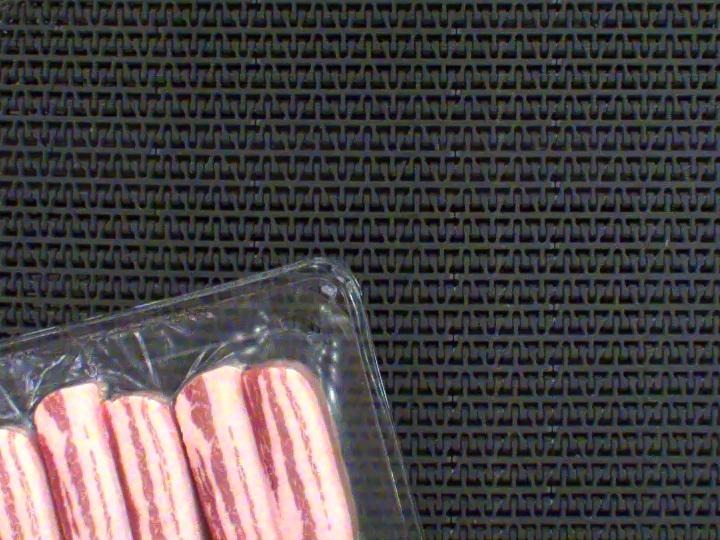unsealed: (0, 295, 374, 480)
